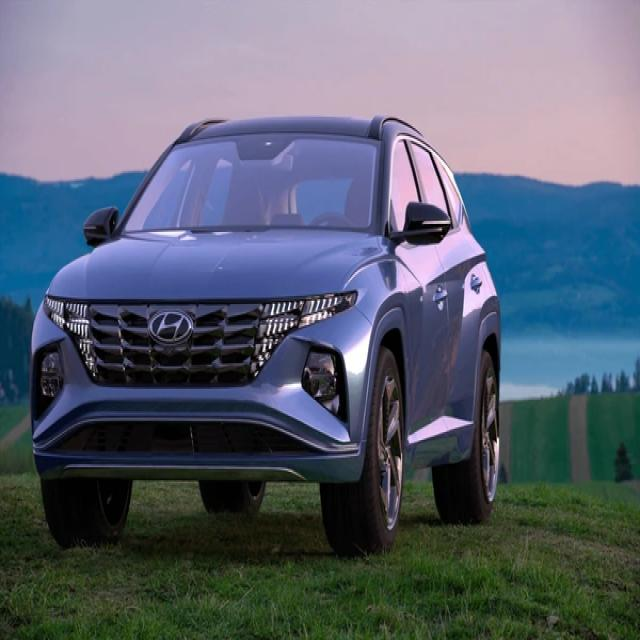hyundai: (145, 309, 192, 341)
